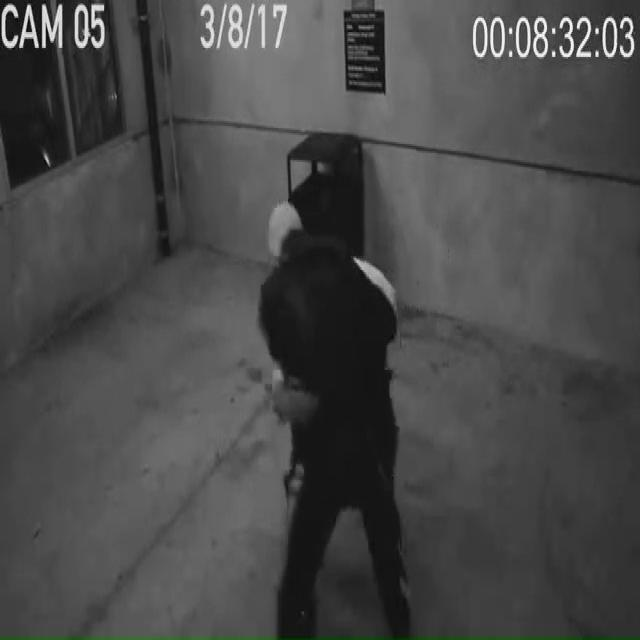fight: (252, 196, 413, 638)
